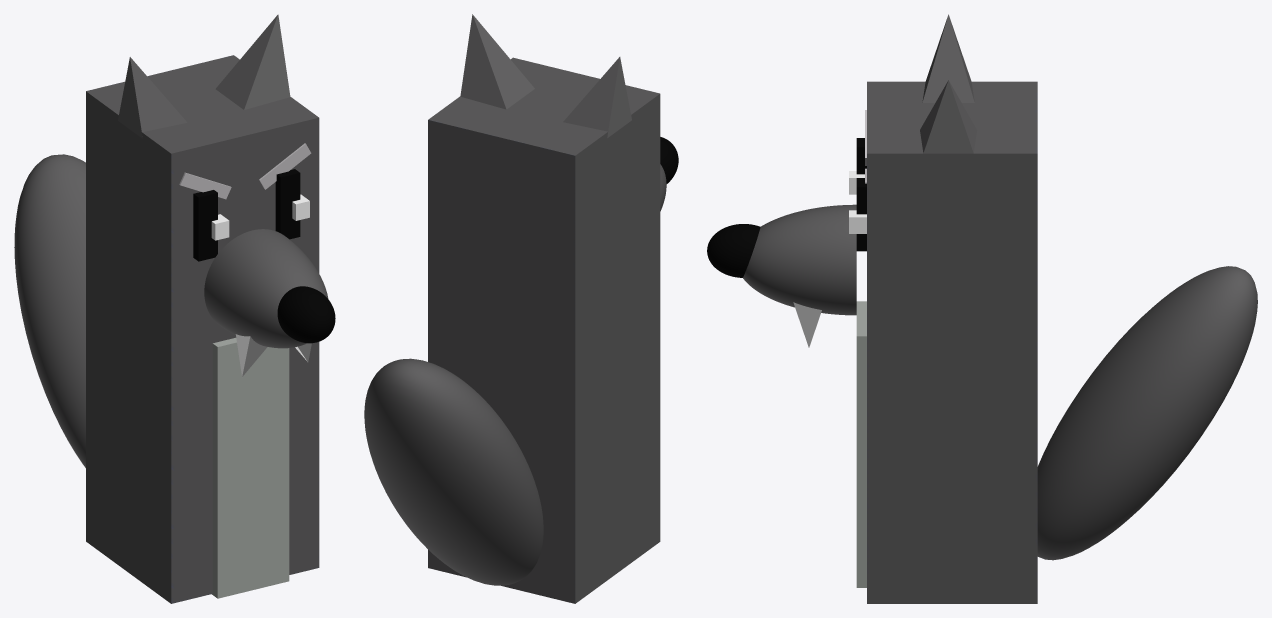
File: wolf.fbx
3 views of the same model, side by side, from view 1: azimuth 30°, elevation 25°; view 2: azimuth 150°, elevation 25°; view 3: azimuth 270°, elevation 25° (orthographic).
Visible parts, largest first — view 1: node_id88 (×5), node_id105 (×2), node_id91, node_id89, node_id99, node_id96, node_id110; view 2: node_id88 (×2), node_id91, node_id89, node_id105; view 3: node_id88 (×3), node_id105 (×2), node_id91, node_id89.
Part boxes in pixels (<box>): node_id88 (×5): <box>14,55,319,603</box>; node_id105 (×2): <box>204,229,335,348</box>; node_id91: <box>215,14,290,109</box>; node_id89: <box>118,57,186,138</box>; node_id99: <box>193,190,217,261</box>; node_id96: <box>275,169,300,239</box>; node_id110: <box>235,334,267,376</box>; node_id88 (×2): <box>364,57,660,603</box>; node_id91: <box>460,14,534,109</box>; node_id89: <box>563,57,631,137</box>; node_id105: <box>660,137,678,183</box>; node_id88 (×3): <box>856,81,1257,603</box>; node_id105 (×2): <box>707,204,856,315</box>; node_id91: <box>920,80,977,153</box>; node_id89: <box>922,14,974,102</box>.
Bounding box in the file's own units: 0.1509 × 0.5104 × 0.4854.
14 materials, 14 textured.
